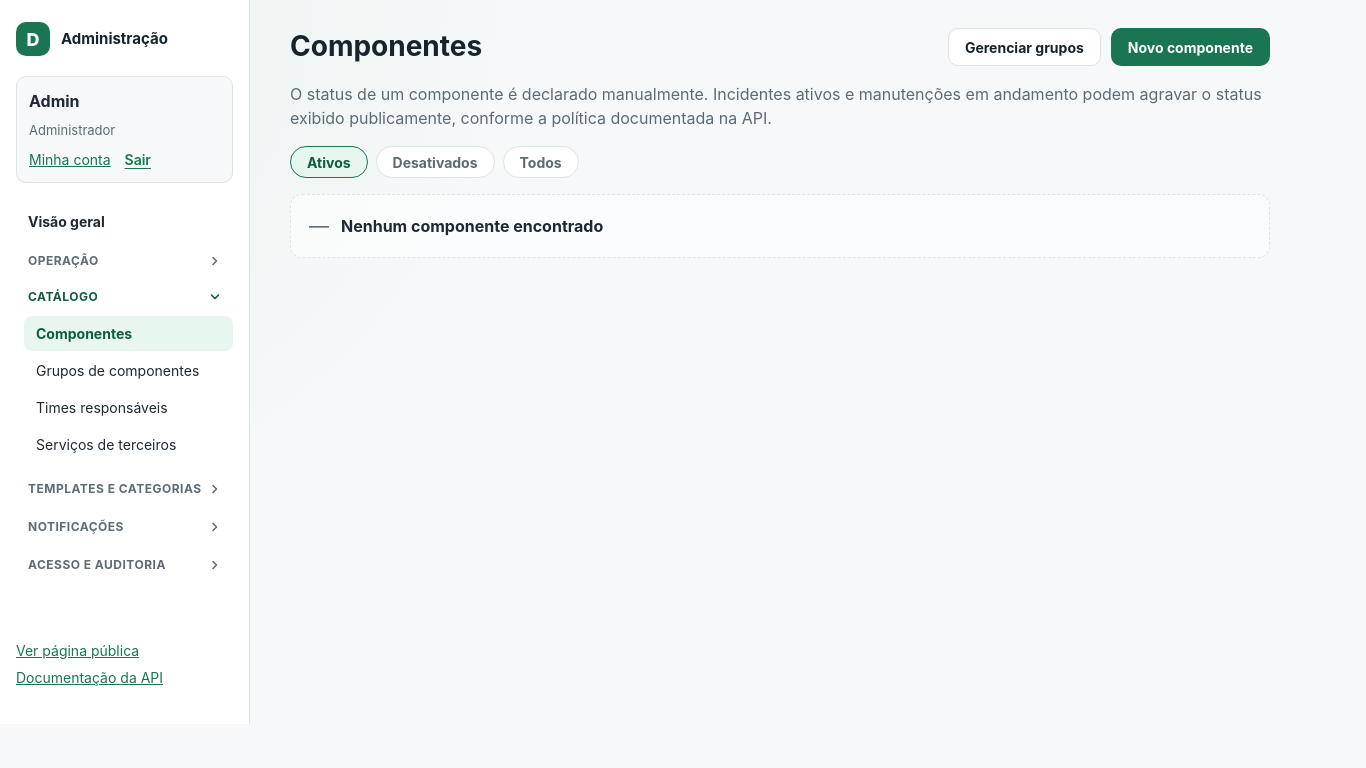
admin area › returns to the login form when the session ends
Expected: the text "Nenhum componente encontrado" is shown, [341,216,603,236]
Step 1. Click the button "Desativados" → (435, 162), box [376,146,495,178]
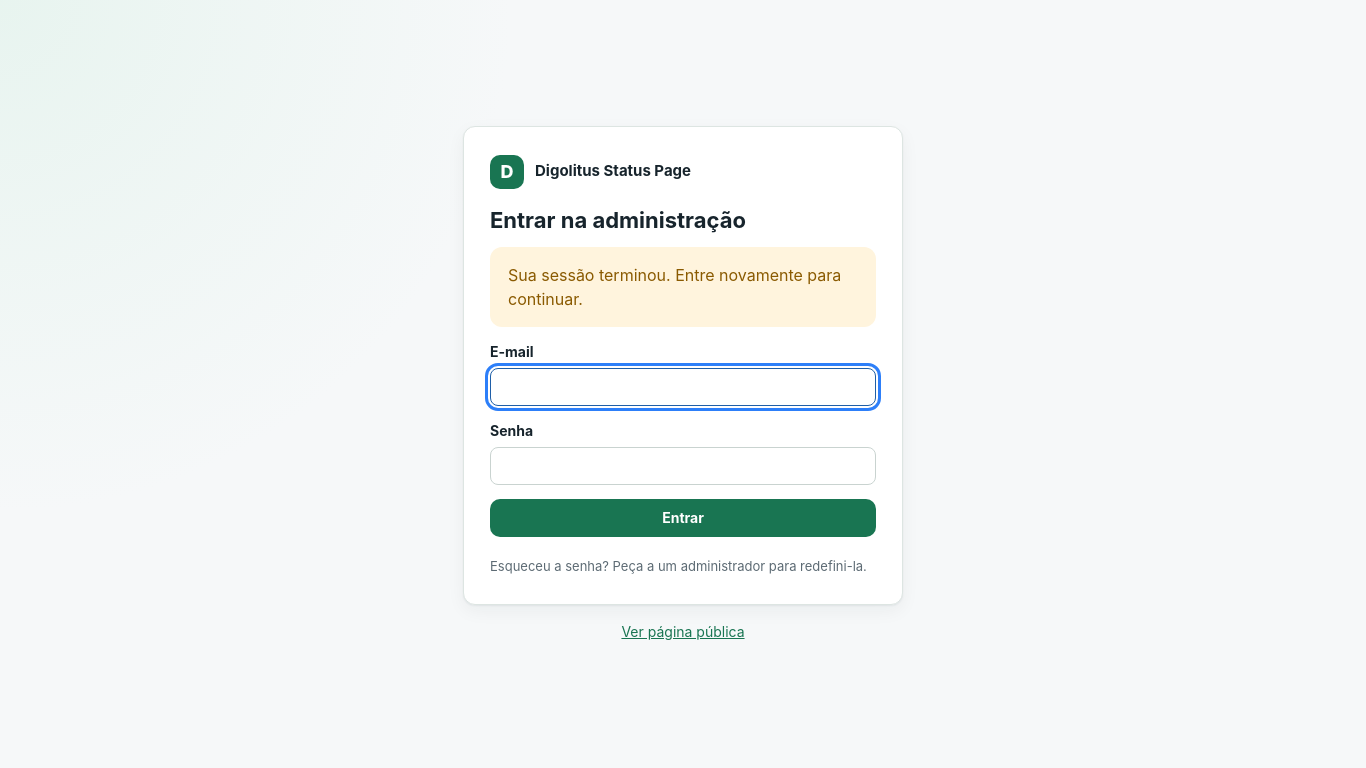
Expected: the text "Sua sessão terminou. Entre novamente para continuar." is shown, [490,247,876,327]
Expected: the button "Entrar" is shown, [490,499,876,537]
